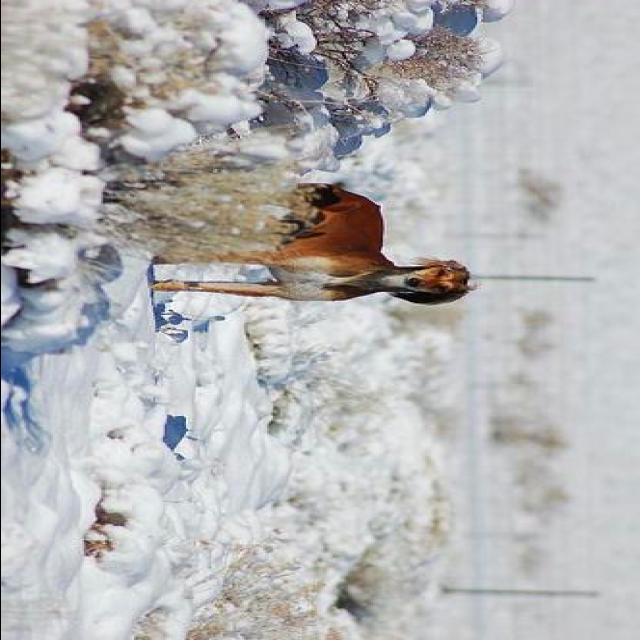saluki: (148, 182, 478, 304)
